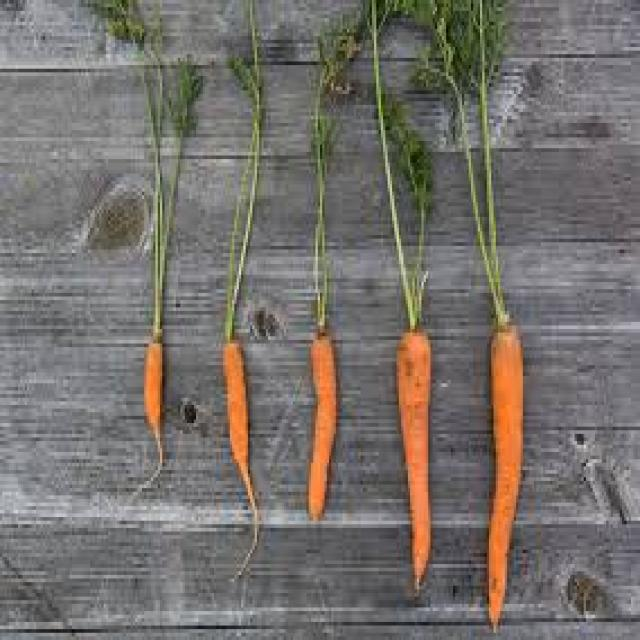Carrot: (394, 332, 435, 588)
